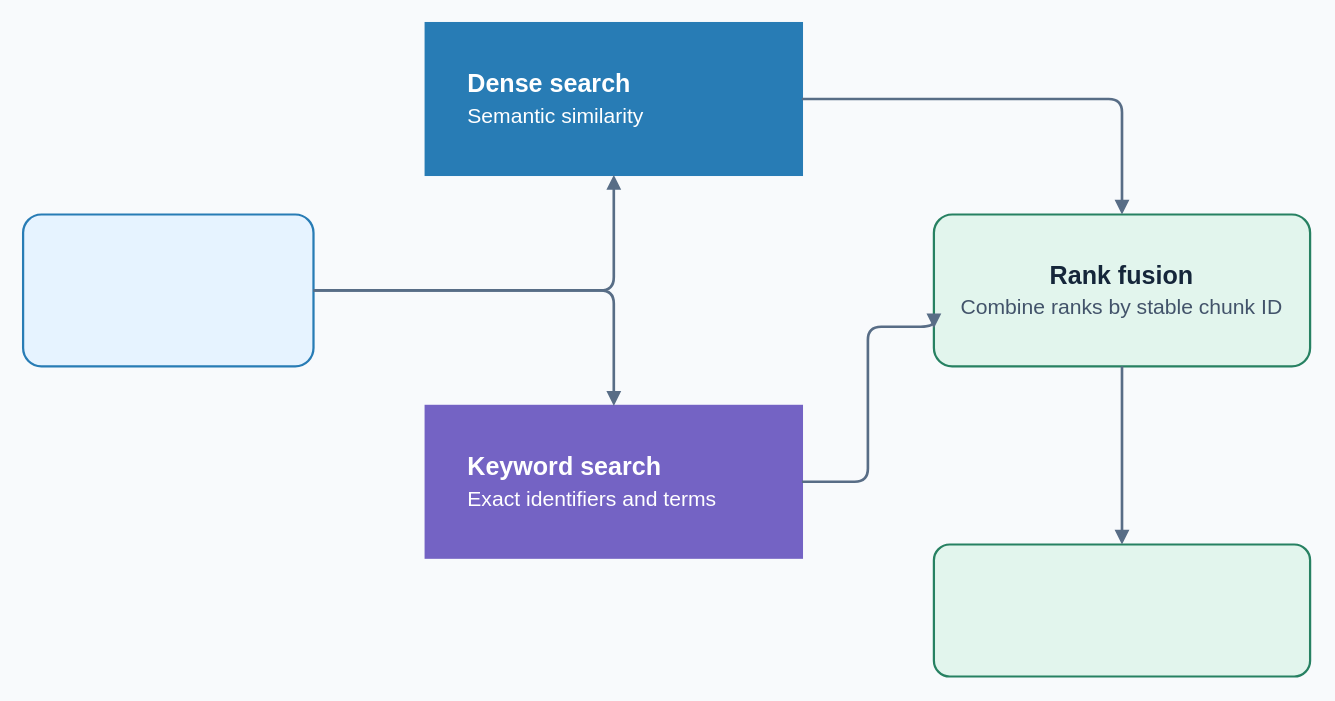
This 1335x701 diagram has some shape labels left out. Each missing label, with the centre of its shape:
Question "API key rotation endpoint": the point at 167,290
Rerank + pack Score relevance, then fit context: the point at 1121,610
